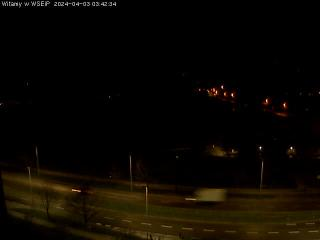car: (186, 187, 228, 206), (70, 183, 95, 195)
